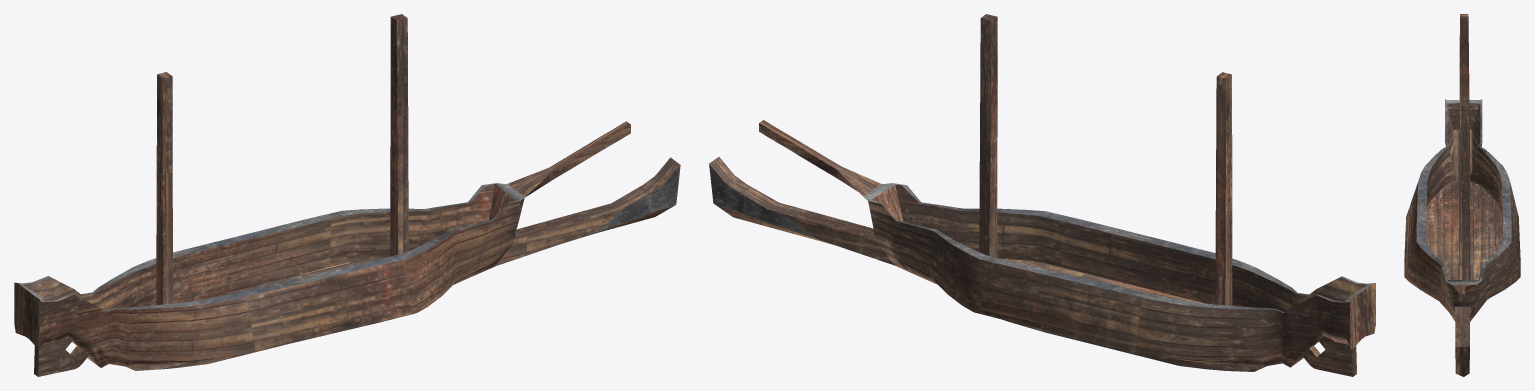
The model's file is boat3.obj.
3 views of the same model, side by side, from view 1: azimuth 30°, elevation 25°; view 2: azimuth 150°, elevation 25°; view 3: azimuth 270°, elevation 25° (orthographic). The views are drawn at different scales.
Parts seen in each view (by area): view 1: pCube1; view 2: pCube1; view 3: pCube1.
Part boxes in pixels (left/top/right/bottom): pCube1: left=14, top=14, right=680, bottom=376; pCube1: left=709, top=14, right=1375, bottom=376; pCube1: left=1404, top=14, right=1520, bottom=376.
Size of the model in its own units: 66.69 by 29.16 by 14.38.
